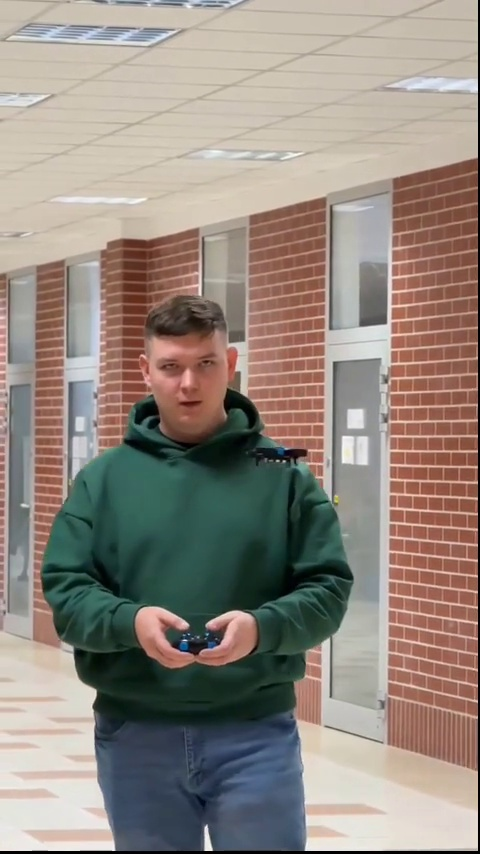drone: (247, 444, 305, 470)
no vest: (45, 295, 351, 825)
